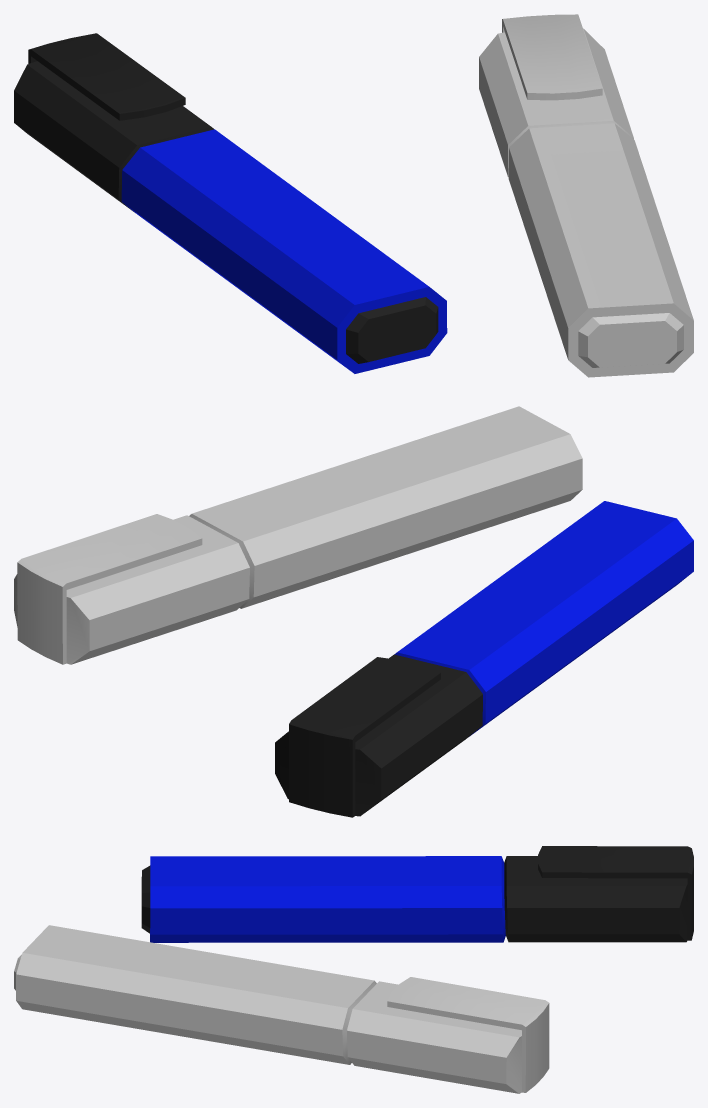
File: Markers.FBX
3 renders of one model, top to bottom at view 1: azimuth 30°, elevation 25°; view 2: azimuth 150°, elevation 25°; view 3: azimuth 270°, elevation 25°, orthographic. The views are drawn at different scales.
Parts seen in each view (by area): view 1: marker 1; view 2: marker 1; view 3: marker 1.
Boxes of the visible parts, box(x1,y1,x2,y2) form: marker 1: box(14, 14, 693, 377); marker 1: box(14, 406, 693, 817); marker 1: box(14, 846, 693, 1093).
Bounding box in the file's own units: 11.03 × 1.82 × 16.35.
